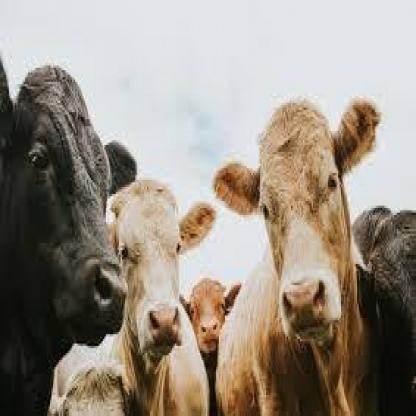cow: (218, 93, 382, 416), (0, 68, 137, 416), (48, 175, 217, 416), (351, 205, 415, 416), (178, 273, 248, 353)
